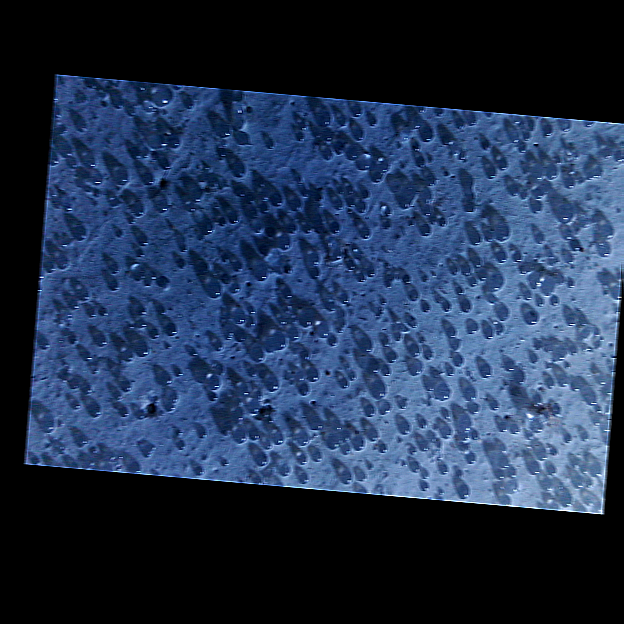GrassBeadSeg: (555, 204, 575, 223), (298, 309, 317, 327), (205, 280, 223, 298), (487, 273, 505, 291), (370, 380, 387, 399), (153, 89, 173, 105), (434, 383, 452, 400), (315, 110, 332, 127), (315, 321, 332, 338), (254, 263, 270, 281), (276, 234, 293, 250), (249, 345, 266, 361), (72, 224, 88, 240), (264, 375, 280, 391), (134, 341, 150, 357), (458, 414, 474, 430), (215, 122, 232, 137), (232, 428, 248, 443), (231, 309, 247, 324), (496, 224, 511, 240), (544, 164, 560, 179), (304, 251, 320, 266), (272, 333, 287, 349), (254, 451, 269, 466), (87, 402, 102, 417), (339, 469, 354, 484), (540, 280, 555, 295), (326, 434, 341, 449), (524, 310, 540, 324), (359, 338, 375, 352), (114, 170, 130, 184), (309, 416, 325, 430), (156, 372, 173, 385), (496, 306, 510, 321), (463, 386, 478, 400), (468, 231, 483, 245), (407, 343, 422, 357), (141, 171, 156, 185), (420, 127, 434, 142), (155, 198, 170, 212), (295, 431, 310, 445), (207, 375, 222, 389), (41, 417, 55, 432), (418, 189, 433, 203), (598, 242, 612, 257), (270, 191, 284, 206), (233, 161, 247, 176), (130, 203, 146, 216), (355, 157, 371, 170), (398, 420, 412, 434), (56, 255, 70, 269), (168, 134, 182, 148), (352, 436, 366, 450), (237, 382, 251, 396), (560, 492, 574, 506), (366, 359, 380, 373), (397, 195, 412, 208), (306, 368, 321, 381), (288, 198, 303, 211), (408, 362, 423, 375), (458, 484, 471, 499), (527, 461, 542, 474), (91, 172, 106, 185), (601, 224, 614, 239), (199, 221, 215, 233), (479, 364, 492, 378), (419, 223, 433, 236), (366, 428, 380, 441), (231, 409, 245, 422), (128, 460, 142, 473), (513, 370, 526, 384), (506, 479, 519, 493), (332, 197, 345, 210), (38, 336, 51, 349), (440, 425, 453, 438), (272, 431, 285, 444), (61, 198, 74, 211), (461, 299, 473, 313), (94, 334, 108, 346), (507, 184, 521, 196), (358, 226, 372, 238), (121, 350, 135, 362), (466, 322, 480, 334), (503, 359, 517, 371), (590, 464, 604, 476), (440, 132, 454, 144), (495, 250, 508, 262), (424, 174, 437, 186), (355, 201, 368, 213), (211, 339, 224, 351), (281, 287, 294, 299), (159, 158, 172, 170), (355, 469, 368, 481), (77, 288, 90, 300), (541, 478, 554, 490), (498, 456, 511, 468), (249, 428, 262, 440), (235, 330, 248, 342), (535, 448, 548, 460), (247, 400, 260, 412), (330, 248, 343, 260), (532, 187, 545, 199), (142, 444, 154, 457), (321, 129, 334, 141), (85, 155, 97, 168), (61, 144, 73, 157), (67, 156, 79, 169), (129, 146, 141, 159), (233, 102, 245, 115), (559, 118, 571, 131), (571, 378, 583, 391), (586, 392, 598, 405), (298, 382, 310, 395), (157, 276, 171, 287), (509, 128, 520, 142), (327, 334, 339, 346), (565, 313, 577, 325), (137, 234, 149, 246), (351, 105, 363, 117), (408, 289, 420, 301), (365, 265, 377, 277), (557, 374, 569, 386), (322, 148, 334, 160), (214, 363, 226, 375), (340, 428, 352, 440), (76, 119, 88, 131), (113, 96, 125, 108), (371, 170, 383, 182), (379, 161, 391, 173), (107, 279, 120, 290), (297, 472, 310, 483), (120, 380, 133, 391), (228, 282, 241, 293), (485, 167, 498, 178), (420, 205, 433, 216), (467, 402, 480, 413), (461, 264, 474, 275), (49, 152, 60, 165), (156, 135, 167, 148), (534, 232, 546, 243), (299, 348, 311, 359), (564, 177, 576, 188), (546, 464, 557, 476), (232, 260, 244, 271), (109, 262, 120, 274), (562, 228, 574, 239), (409, 461, 421, 472), (333, 142, 345, 153), (471, 256, 483, 267), (467, 113, 478, 125), (61, 310, 73, 321), (69, 378, 81, 389), (348, 147, 359, 159), (354, 128, 365, 140), (337, 113, 348, 125), (379, 401, 390, 413), (365, 403, 376, 415), (280, 463, 291, 475), (253, 221, 264, 233), (288, 328, 300, 339), (464, 202, 477, 212), (484, 326, 494, 339), (454, 353, 464, 366), (466, 452, 477, 463), (416, 156, 427, 167), (497, 421, 508, 432), (446, 326, 457, 337), (197, 427, 208, 438), (184, 98, 195, 109), (310, 268, 321, 279), (551, 404, 562, 415), (77, 435, 88, 446), (297, 453, 309, 463), (111, 390, 123, 400), (261, 439, 273, 449), (135, 305, 147, 315), (148, 328, 160, 338), (324, 300, 336, 310), (509, 424, 521, 434), (220, 273, 232, 283), (81, 351, 93, 361), (299, 186, 311, 196), (532, 394, 544, 404), (53, 107, 63, 119), (487, 294, 499, 304), (135, 408, 147, 418), (167, 391, 179, 401), (133, 270, 145, 280), (455, 117, 465, 129), (522, 129, 532, 141), (603, 146, 613, 158), (498, 158, 508, 170), (424, 347, 434, 359), (450, 338, 460, 350), (331, 221, 341, 233), (315, 221, 325, 233), (247, 205, 257, 217), (230, 211, 240, 223), (168, 323, 178, 335), (489, 400, 500, 410), (438, 464, 449, 474), (176, 258, 187, 268), (194, 465, 205, 475), (367, 116, 378, 126), (378, 442, 388, 453), (69, 299, 80, 309), (118, 406, 129, 416), (424, 381, 435, 391), (501, 495, 512, 505), (81, 383, 92, 393), (484, 230, 495, 240), (506, 467, 517, 477), (302, 223, 313, 233), (221, 252, 232, 262), (220, 425, 231, 435), (339, 292, 350, 302), (45, 262, 56, 272), (600, 422, 611, 432), (245, 317, 256, 327), (331, 419, 342, 429), (58, 124, 68, 135), (208, 175, 219, 185), (235, 186, 246, 196), (411, 117, 421, 128), (544, 124, 554, 135), (532, 201, 542, 212), (531, 277, 541, 288), (550, 295, 560, 306), (288, 222, 298, 233), (199, 262, 209, 273), (387, 350, 397, 361), (614, 150, 623, 162), (457, 430, 469, 439), (68, 334, 78, 344), (420, 481, 430, 491), (470, 430, 480, 440), (208, 391, 218, 401), (450, 265, 460, 275), (495, 324, 505, 334), (580, 431, 590, 441), (408, 445, 418, 455), (312, 451, 322, 461), (420, 469, 430, 479), (87, 307, 97, 317), (126, 105, 136, 115), (254, 389, 264, 399), (556, 275, 566, 285), (176, 440, 187, 449), (467, 277, 478, 286), (135, 82, 146, 91), (565, 253, 574, 263), (173, 367, 183, 376), (517, 143, 527, 152), (568, 345, 578, 354), (584, 479, 594, 488), (454, 469, 464, 478), (578, 316, 588, 325), (383, 207, 392, 217), (442, 410, 452, 419), (460, 442, 470, 451), (419, 417, 428, 427), (260, 202, 269, 212), (58, 372, 69, 380), (547, 377, 555, 388), (362, 189, 371, 198), (422, 303, 431, 312), (435, 107, 444, 116), (557, 350, 566, 359), (530, 354, 539, 363), (564, 433, 573, 442), (420, 441, 429, 450), (341, 378, 350, 387), (383, 221, 393, 229), (115, 229, 125, 237), (99, 307, 109, 315), (178, 243, 188, 251), (254, 476, 264, 484), (495, 470, 505, 478), (592, 417, 602, 425), (348, 197, 356, 207), (512, 114, 520, 124), (520, 189, 528, 199), (524, 290, 532, 300), (343, 444, 351, 454), (349, 370, 357, 380), (439, 216, 447, 226), (260, 367, 268, 377), (383, 366, 391, 376), (416, 105, 427, 112), (189, 348, 198, 356), (89, 445, 98, 453), (90, 365, 99, 373), (299, 120, 307, 129), (267, 138, 275, 147), (337, 185, 345, 194), (347, 185, 355, 194), (452, 144, 460, 153), (482, 140, 490, 149), (582, 218, 590, 227), (572, 241, 580, 250), (575, 478, 583, 487), (537, 297, 545, 306), (447, 366, 455, 375), (399, 399, 407, 408), (297, 371, 305, 380), (358, 272, 366, 281), (514, 252, 522, 261), (479, 270, 487, 279), (347, 260, 355, 269), (284, 264, 292, 273), (249, 367, 257, 376), (382, 336, 390, 345), (298, 131, 305, 141), (456, 286, 464, 294), (136, 249, 144, 257), (567, 279, 575, 287), (221, 458, 229, 466), (525, 431, 533, 439), (598, 376, 606, 384), (550, 447, 558, 455), (167, 402, 175, 410), (72, 401, 80, 409), (594, 328, 601, 337), (376, 152, 383, 161), (316, 192, 323, 201), (413, 142, 420, 151), (459, 150, 466, 159), (581, 465, 588, 474), (586, 496, 593, 505), (248, 305, 255, 314), (403, 275, 410, 284), (444, 301, 451, 310), (159, 306, 166, 315), (266, 343, 273, 352), (408, 219, 416, 226), (164, 342, 172, 349), (295, 175, 303, 182), (574, 225, 581, 233), (81, 93, 88, 101), (90, 80, 97, 88), (95, 188, 102, 196), (142, 150, 149, 158), (247, 195, 254, 203), (261, 191, 268, 199), (219, 149, 226, 157), (150, 123, 157, 131), (146, 102, 153, 110), (594, 340, 601, 348), (572, 459, 579, 467), (596, 503, 603, 511), (500, 444, 507, 452), (520, 264, 527, 272), (258, 178, 265, 186), (514, 387, 521, 395), (220, 217, 227, 225), (189, 203, 196, 211), (150, 271, 157, 279), (140, 319, 147, 327), (485, 111, 494, 117), (427, 155, 434, 162), (419, 336, 426, 343), (246, 106, 253, 113), (433, 370, 440, 377), (184, 197, 191, 204), (536, 341, 542, 349), (423, 274, 429, 282), (431, 216, 437, 224), (386, 281, 392, 288), (436, 295, 442, 302), (380, 297, 386, 304), (194, 194, 200, 201), (444, 170, 450, 176), (524, 168, 530, 174), (176, 429, 182, 435), (35, 457, 41, 463), (58, 419, 64, 425), (337, 326, 343, 332), (341, 321, 347, 327), (89, 458, 94, 465), (412, 320, 417, 327), (397, 333, 402, 340), (395, 317, 400, 324), (499, 482, 504, 489), (315, 131, 320, 137), (401, 162, 406, 168), (347, 207, 352, 213), (62, 241, 67, 247), (199, 234, 204, 240), (130, 216, 135, 222), (439, 488, 444, 494), (94, 201, 99, 206), (222, 141, 227, 146), (592, 218, 597, 223), (617, 208, 622, 213), (549, 252, 554, 257), (555, 257, 560, 262), (618, 274, 623, 279), (615, 308, 620, 313), (546, 363, 551, 368), (552, 358, 557, 363), (504, 381, 509, 386), (427, 401, 432, 406), (398, 437, 403, 442), (280, 319, 285, 324), (292, 318, 297, 323), (163, 109, 167, 115), (531, 126, 535, 132), (521, 121, 525, 127), (588, 174, 592, 180), (593, 172, 597, 178), (579, 178, 583, 184), (566, 362, 570, 368), (402, 460, 406, 466), (346, 363, 350, 369), (398, 143, 402, 148), (569, 169, 573, 174), (557, 159, 561, 164), (527, 185, 531, 190), (537, 174, 541, 179), (550, 261, 554, 266), (603, 281, 607, 286), (604, 289, 608, 294), (582, 335, 586, 340), (547, 346, 551, 351), (583, 346, 587, 351), (587, 345, 591, 350), (600, 335, 604, 340), (607, 390, 611, 395), (606, 409, 610, 414), (597, 407, 601, 412), (467, 370, 471, 375), (435, 424, 439, 429), (432, 436, 436, 441), (369, 464, 373, 469), (289, 374, 293, 379), (269, 417, 273, 422), (239, 399, 243, 404), (160, 410, 164, 415), (111, 454, 115, 459), (118, 454, 122, 459), (116, 460, 120, 465), (117, 465, 121, 470), (59, 444, 63, 449), (62, 448, 66, 453), (285, 308, 289, 313), (64, 361, 68, 365), (67, 365, 71, 369), (575, 153, 578, 158), (597, 172, 600, 177), (471, 376, 474, 380), (375, 446, 378, 450), (312, 302, 315, 306), (386, 264, 389, 268), (464, 159, 467, 163), (432, 459, 435, 462), (437, 458, 440, 461), (431, 455, 434, 458), (430, 395, 433, 398), (406, 398, 409, 401), (311, 436, 314, 439), (189, 279, 192, 282), (349, 303, 352, 306), (380, 306, 383, 309), (130, 324, 133, 327), (399, 276, 401, 280), (501, 349, 503, 352), (441, 370, 443, 373), (315, 433, 317, 436), (228, 337, 231, 339), (229, 334, 232, 336), (230, 332, 233, 334), (393, 277, 395, 280), (391, 280, 393, 283), (381, 312, 383, 315), (378, 316, 380, 319), (401, 327, 403, 330), (355, 293, 357, 295), (522, 338, 524, 340), (177, 144, 178, 145), (475, 380, 476, 381)
